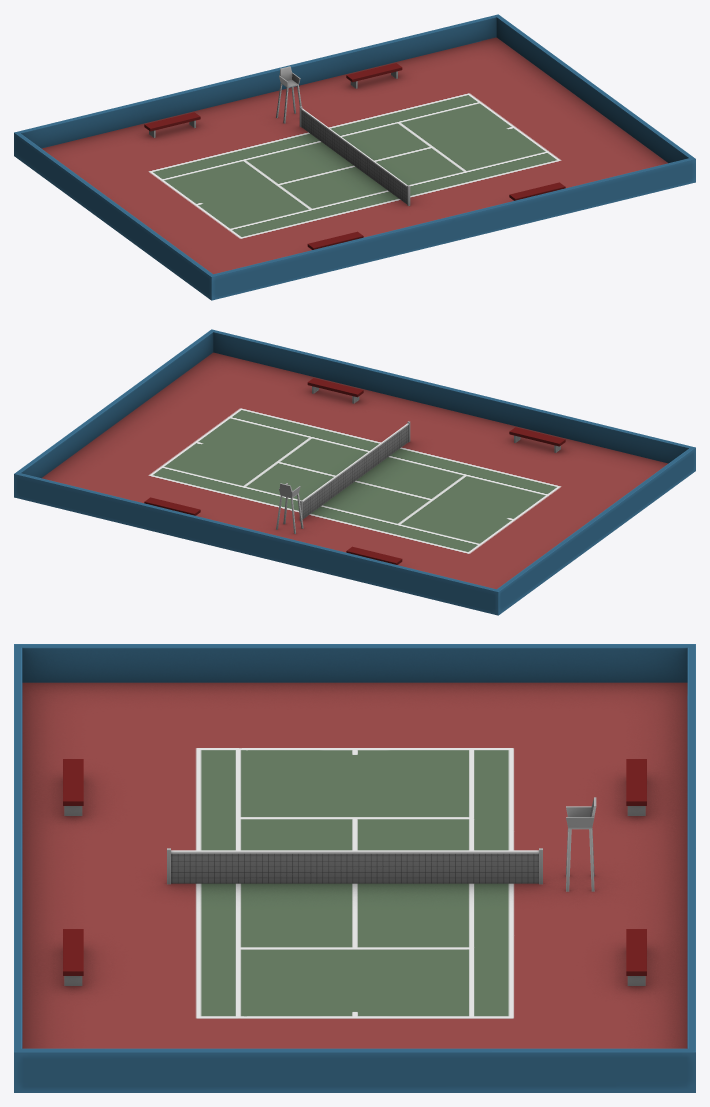
Rendered from TennisCourt.obj.
3 renders of one model, top to bottom at view 1: azimuth 30°, elevation 25°; view 2: azimuth 150°, elevation 25°; view 3: azimuth 270°, elevation 25°, orthographic. The views are drawn at different scales.
Parts seen in each view (by area): view 1: TennisCourt_mesh; view 2: TennisCourt_mesh; view 3: TennisCourt_mesh.
Part boxes in pixels (x1=…): TennisCourt_mesh: x1=14, y1=14, x2=695, y2=300; TennisCourt_mesh: x1=14, y1=329, x2=695, y2=615; TennisCourt_mesh: x1=14, y1=644, x2=695, y2=1092.
Bounding box in the file's own units: 24 × 2.39 × 16.95.
1 material, 1 textured.
